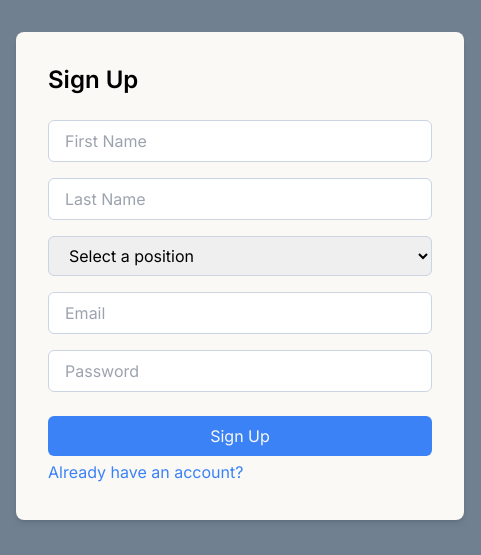
Signup Component › displays error message when email is invalid
Note: Simulate user input of an invalid email
In the field with placeholder "Email": (240, 313) [48,292,432,334], type "invalid-email"
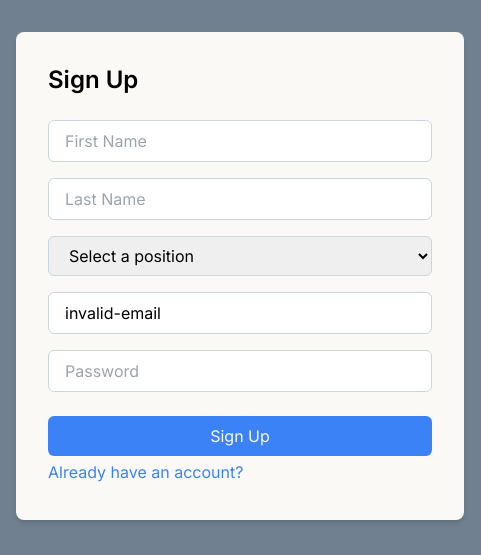
In the password field with placeholder "Password": (240, 371) [48,350,432,392], type "validpassword123"
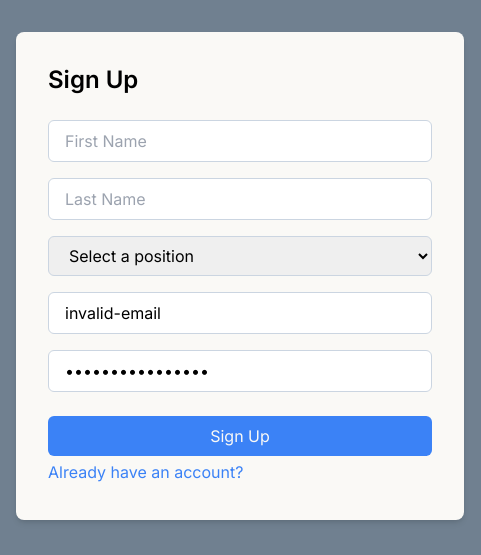
Click the button "Sign Up": (240, 436) [48,416,432,456]
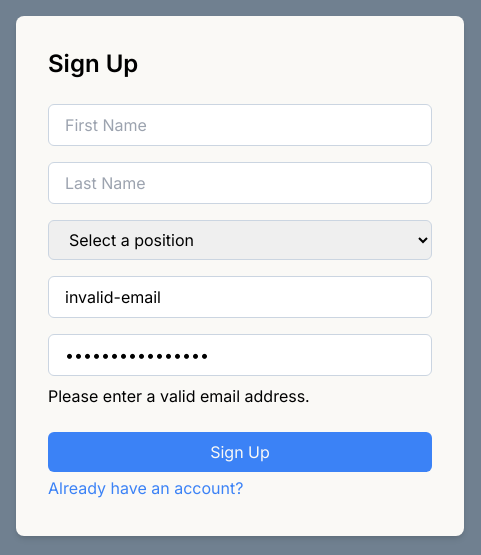
Expected: the text "Please enter a valid email address." is shown, [48,386,310,406]
